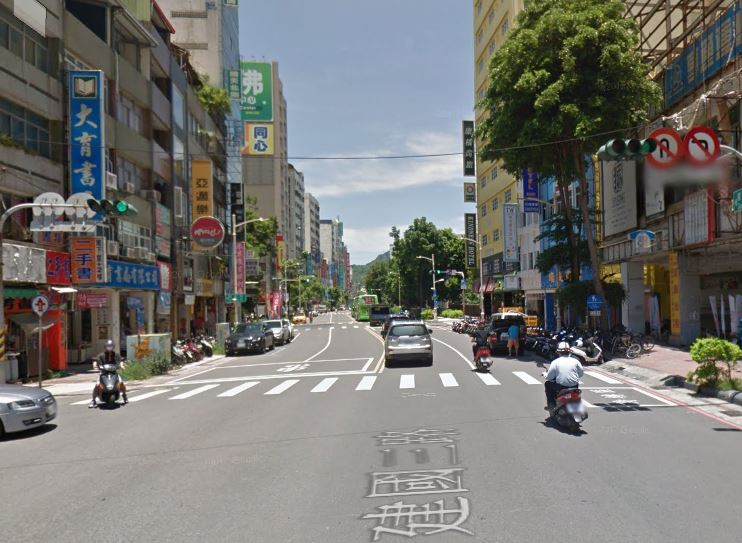Traffic_light_green: (600, 136, 655, 165), (86, 197, 140, 217)
car: (379, 314, 437, 371), (221, 320, 277, 355)
motorcycle: (536, 340, 591, 436), (93, 351, 129, 409), (467, 324, 494, 374)
